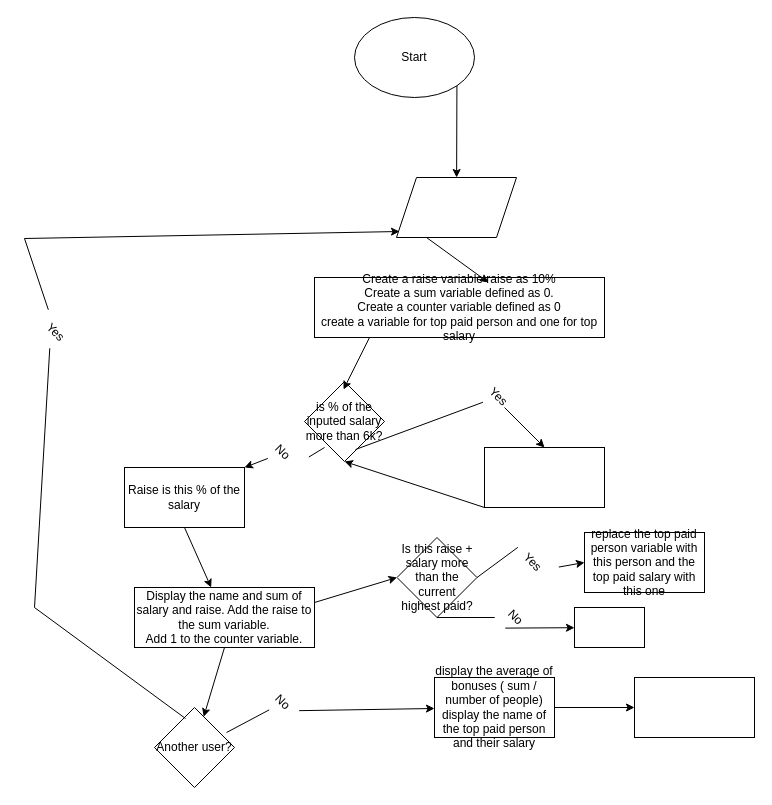
This 772x805 diagram has some shape labels left out. The centre of each missing label's shape, as x and y in pixels:
do nothing: (609,627)
end: (694,707)
Input Name and Salary: (456,207)
Minus 1% from the variable: (544,477)
